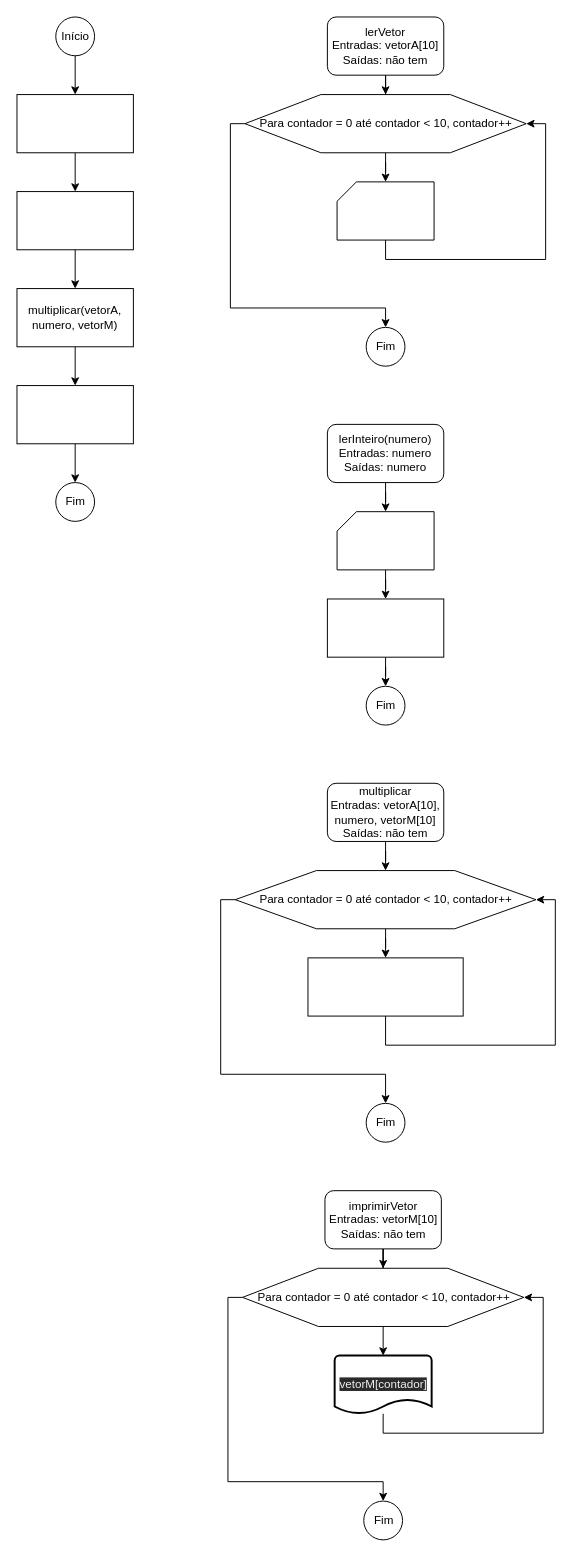
Some shapes in this 580 by 1557 pixel diagram are drawn without their labels. The shapes that lost their labels are listed below. From the top down, each one's centre as x and y in pixels, then its label:
[74,123]: lerVetor(vetorA)
[74,220]: numero = lerInteiro(numero)
[385,210]: vetorA[contador]
[74,414]: imprimirVetor(vetorM)
[385,540]: numero
[385,627]: Retorna numero
[385,986]: vetorM[contador] = vetorA[contador] * numero
